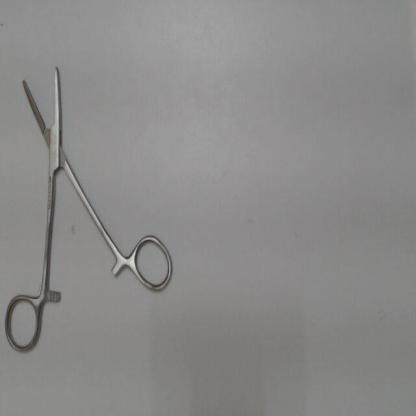Mayo Needle Holder: (2, 49, 179, 359)
